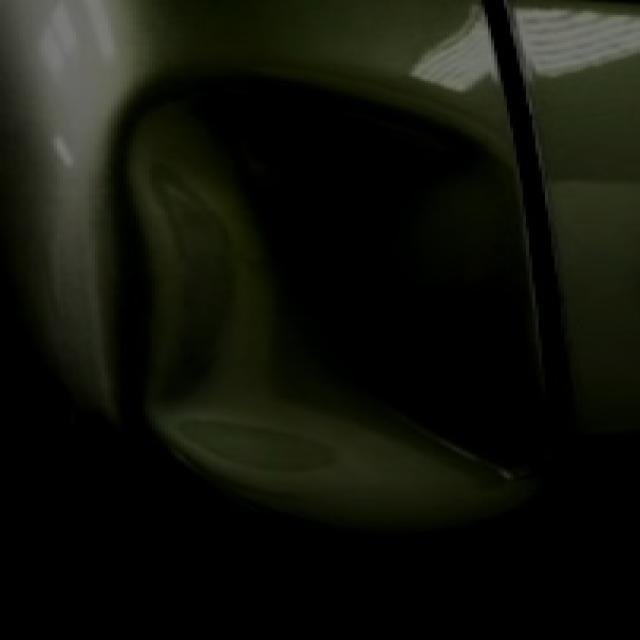dent: (108, 71, 545, 521)
